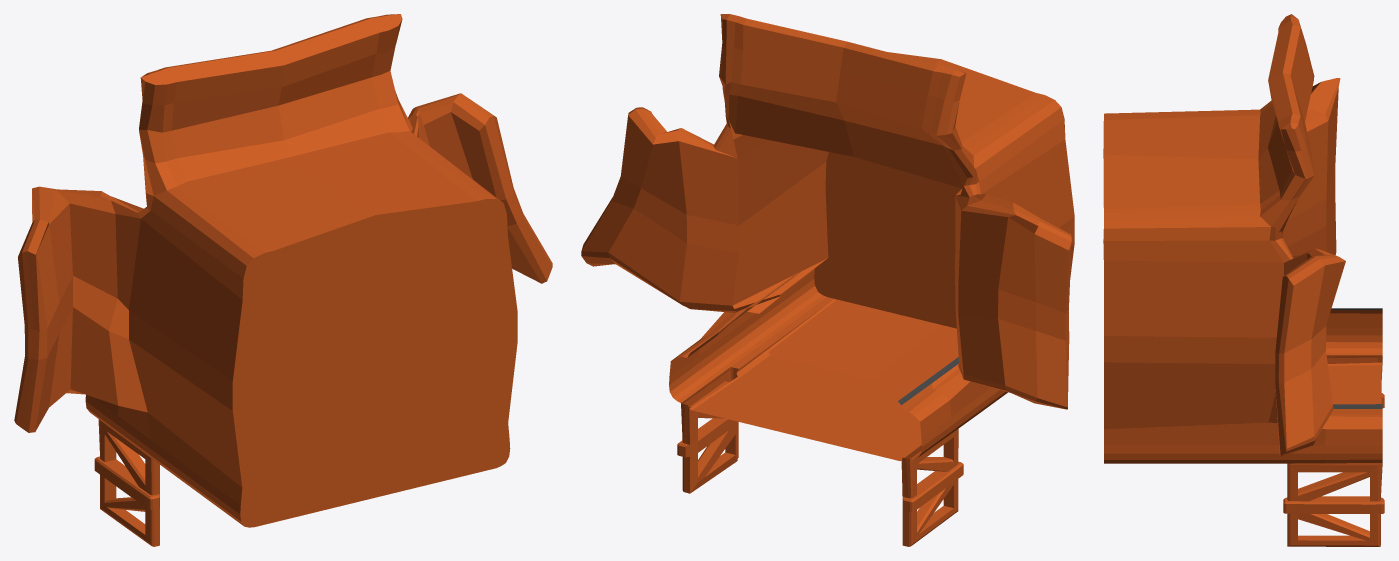
File: MODEL_ENV_ConveyorExit_Destroyed.fbx
3 views of the same model, side by side, from view 1: azimuth 30°, elevation 25°; view 2: azimuth 150°, elevation 25°; view 3: azimuth 270°, elevation 25° (orthographic). The views are drawn at different scales.
Visible parts, largest first — view 1: Conveyor_Exit_Destroyed; view 2: Conveyor_Exit_Destroyed; view 3: Conveyor_Exit_Destroyed.
Boxes of the visible parts, box(x1,y1,x2,y2) form: Conveyor_Exit_Destroyed: box(14, 14, 552, 546); Conveyor_Exit_Destroyed: box(581, 14, 1074, 546); Conveyor_Exit_Destroyed: box(1103, 14, 1384, 546).
Bounding box in the file's own units: 6.06 × 5.19 × 3.11.
